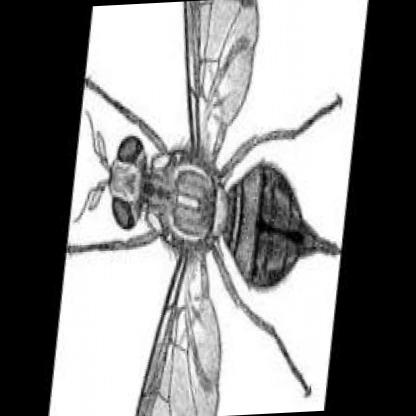fruit fly: (65, 1, 343, 416)
